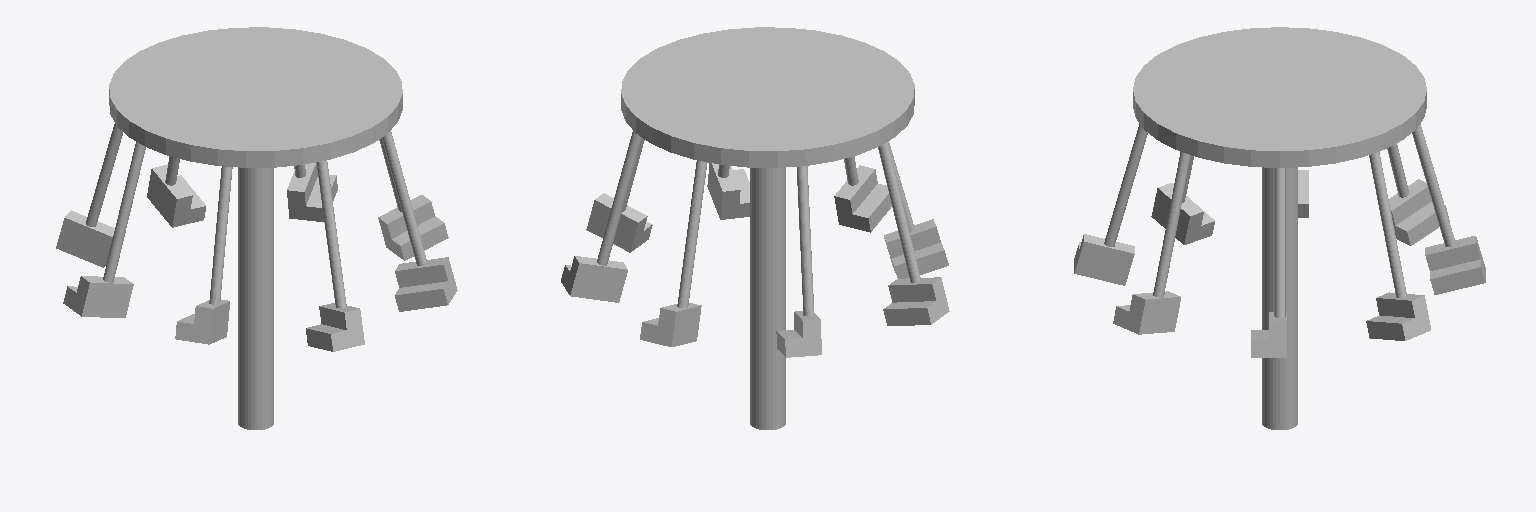
The model's file is Model_SpinningSwing.obj.
3 views of the same model, side by side, from view 1: azimuth 30°, elevation 25°; view 2: azimuth 150°, elevation 25°; view 3: azimuth 270°, elevation 25° (orthographic).
Parts seen in each view (by area): view 1: Cylinder_Cylinder.001; view 2: Cylinder_Cylinder.001; view 3: Cylinder_Cylinder.001.
Boxes of the visible parts, box(x1,y1,x2,y2) form: Cylinder_Cylinder.001: box(56, 27, 457, 429); Cylinder_Cylinder.001: box(561, 27, 949, 429); Cylinder_Cylinder.001: box(1074, 27, 1485, 429).
Bounding box in the file's own units: 22.35 × 20 × 22.35.